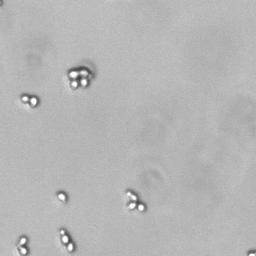budding: (59, 228, 75, 252), (16, 234, 28, 256), (21, 94, 39, 108)
cluster: (67, 65, 94, 91), (124, 189, 148, 213)
individual: (57, 192, 67, 202)
